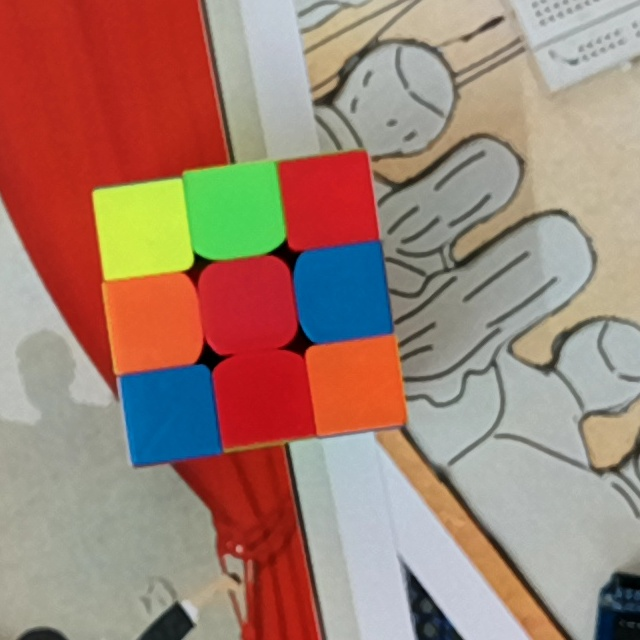tile: (111, 284, 192, 359), (307, 254, 384, 332), (100, 192, 182, 263), (291, 164, 368, 238), (132, 378, 210, 451), (318, 348, 397, 420), (193, 175, 272, 246), (225, 362, 301, 434), (209, 269, 287, 339)
